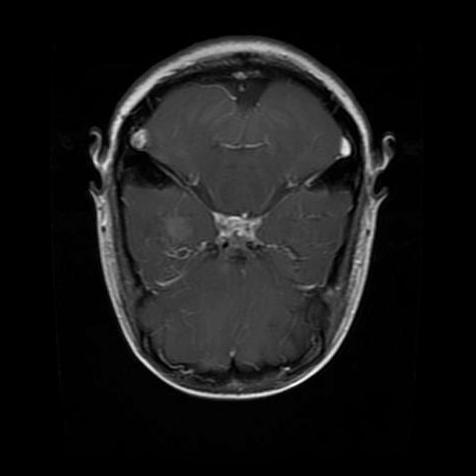Tumour-Glioma: (149, 208, 199, 248)
